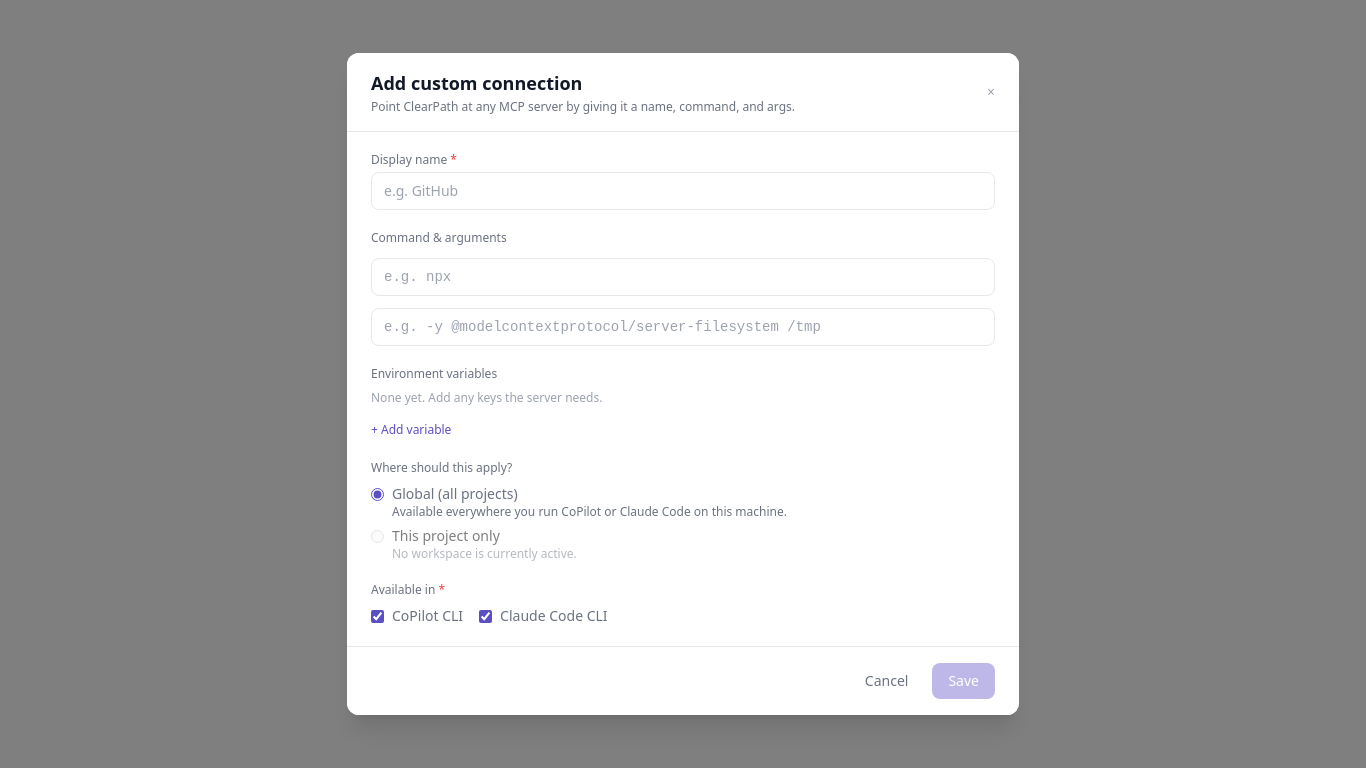
Test case: McpInstallWizard › requires at least one target
The width and height of the screenshot is (1366, 768).
Type "X" into the field with placeholder "e.g. GitHub" at [683, 191], box top-left (371, 172), bottom-right (995, 210)
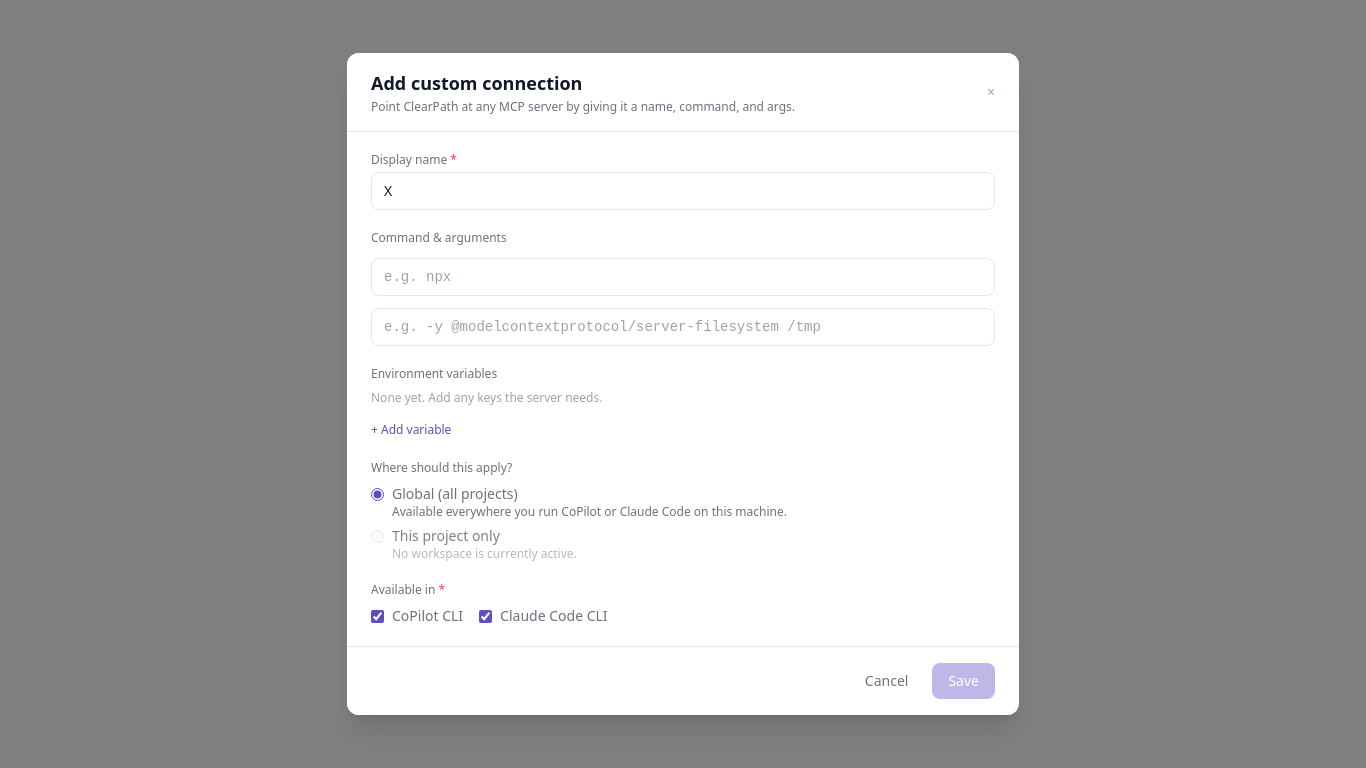
Type "node" into the field with placeholder "e.g. npx" at [683, 277], box top-left (371, 258), bottom-right (995, 296)
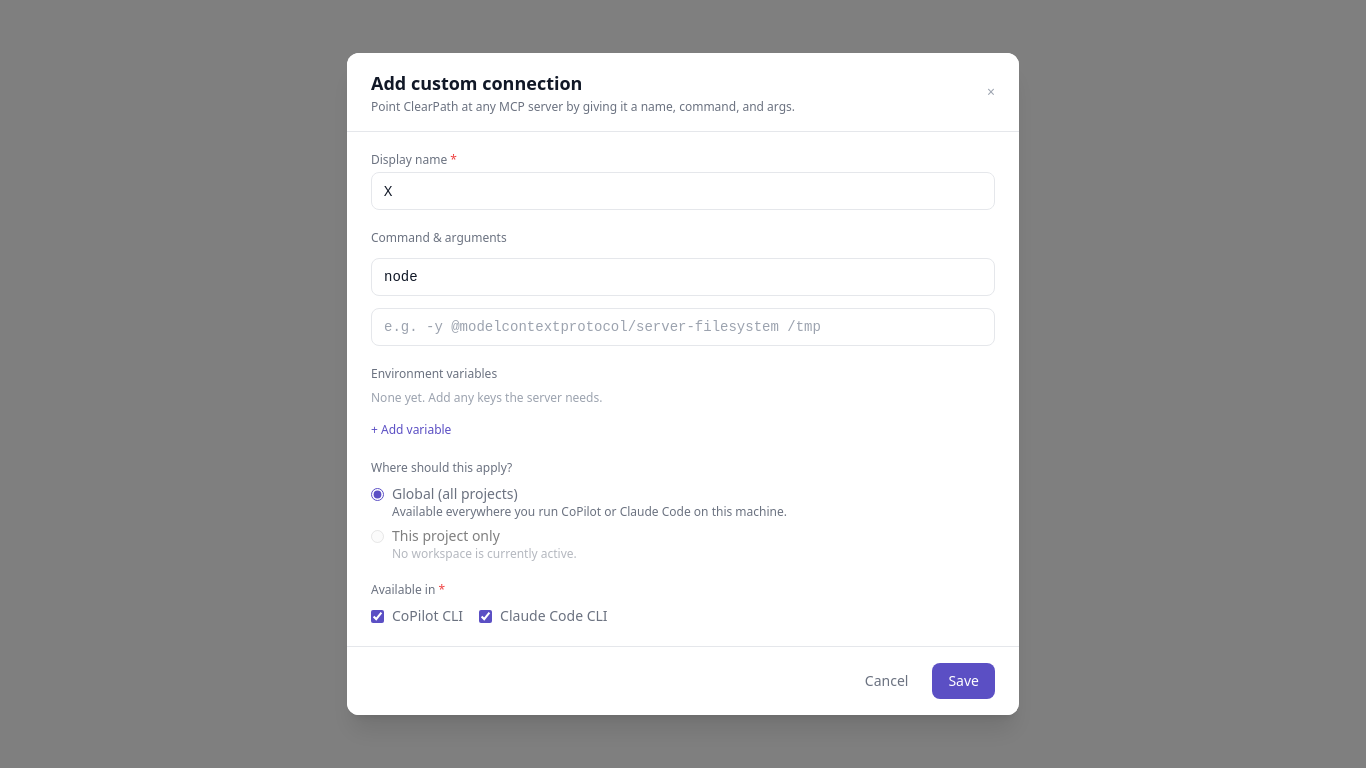
// Uncheck both targets
Click the checkbox labelled "CoPilot CLI" at [378, 616], box top-left (371, 610), bottom-right (384, 622)
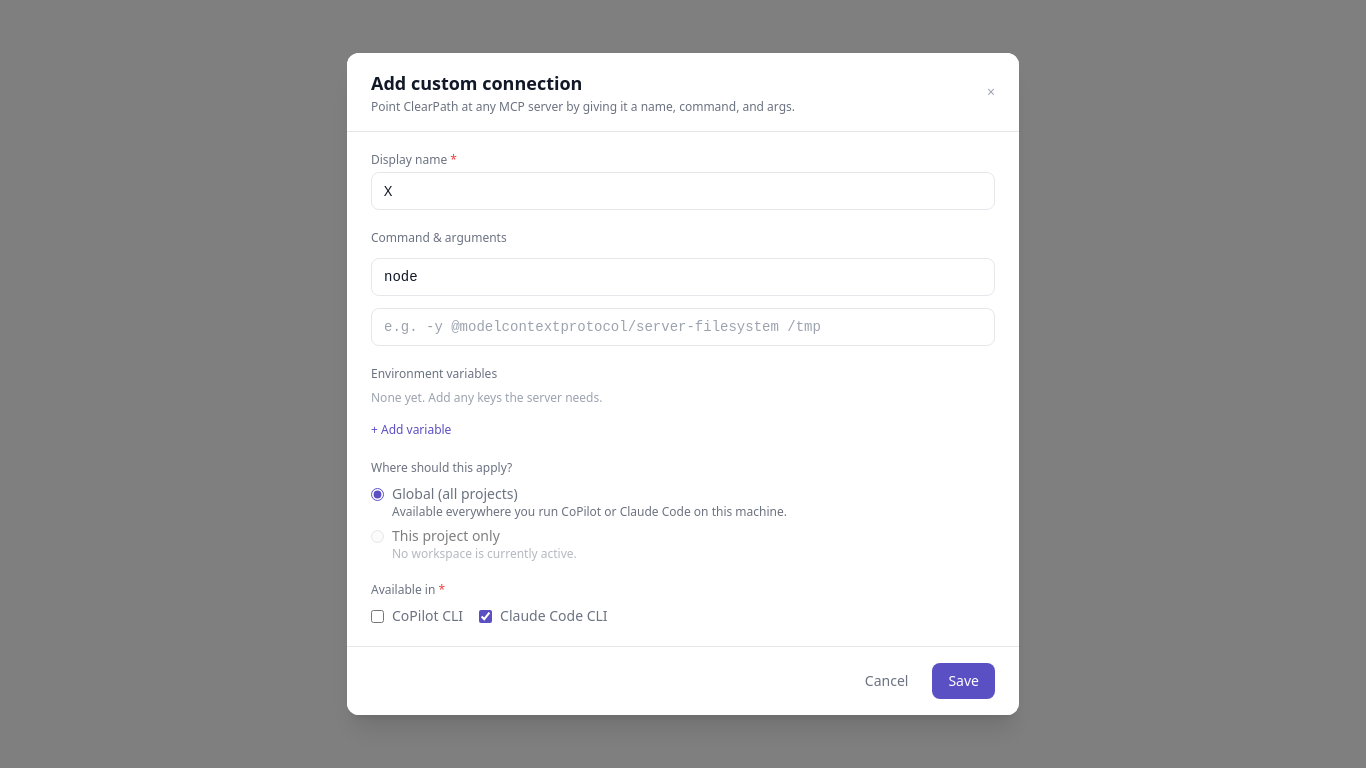
Click the checkbox labelled "Claude Code CLI" at [486, 616], box top-left (479, 610), bottom-right (492, 622)
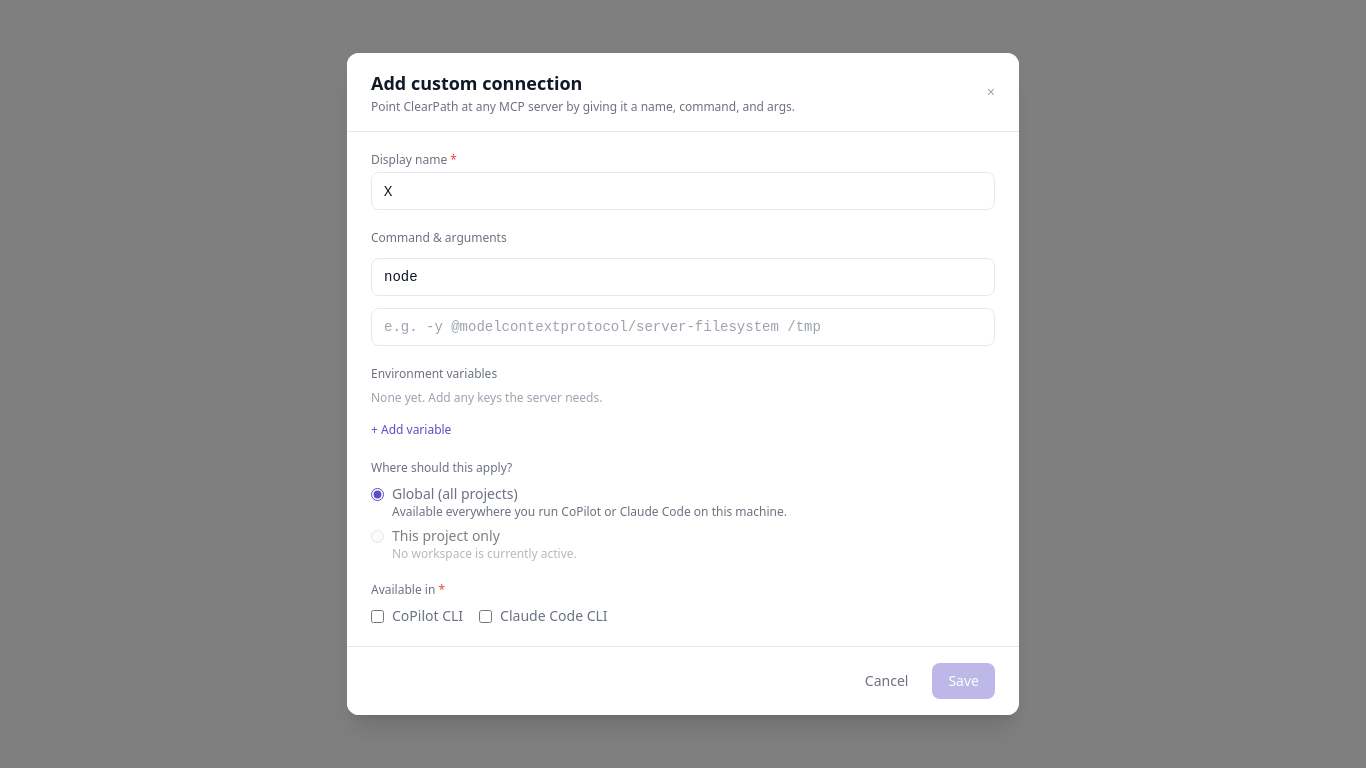
Now the button "Save" is disabled, box top-left (932, 663), bottom-right (995, 699)
